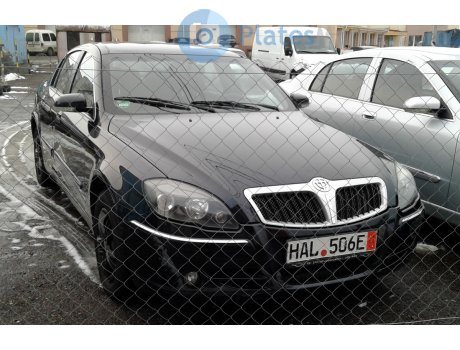License Plates: (289, 241, 379, 253)
